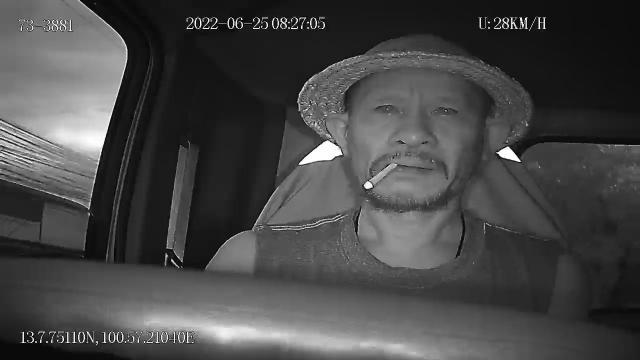SafeDriving: (428, 97, 466, 122), (368, 95, 405, 119)
Smoking: (365, 162, 397, 190)
